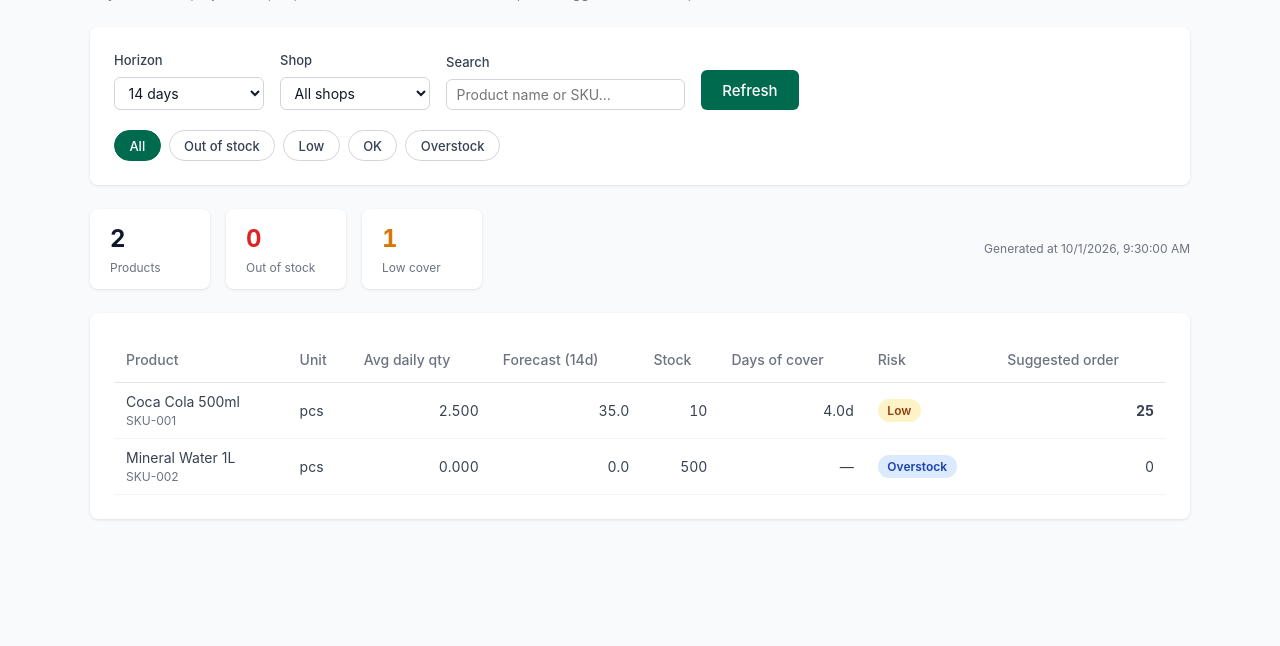
Test: Forecast page › keeps a single row expanded at a time and collapses on a second click
Click the row "Coca Cola 500ml SKU-001 pcs 2.500 35.0 10 4.0d Low 25" at (640,411), box [114,383,1166,439]
(page scrolled)
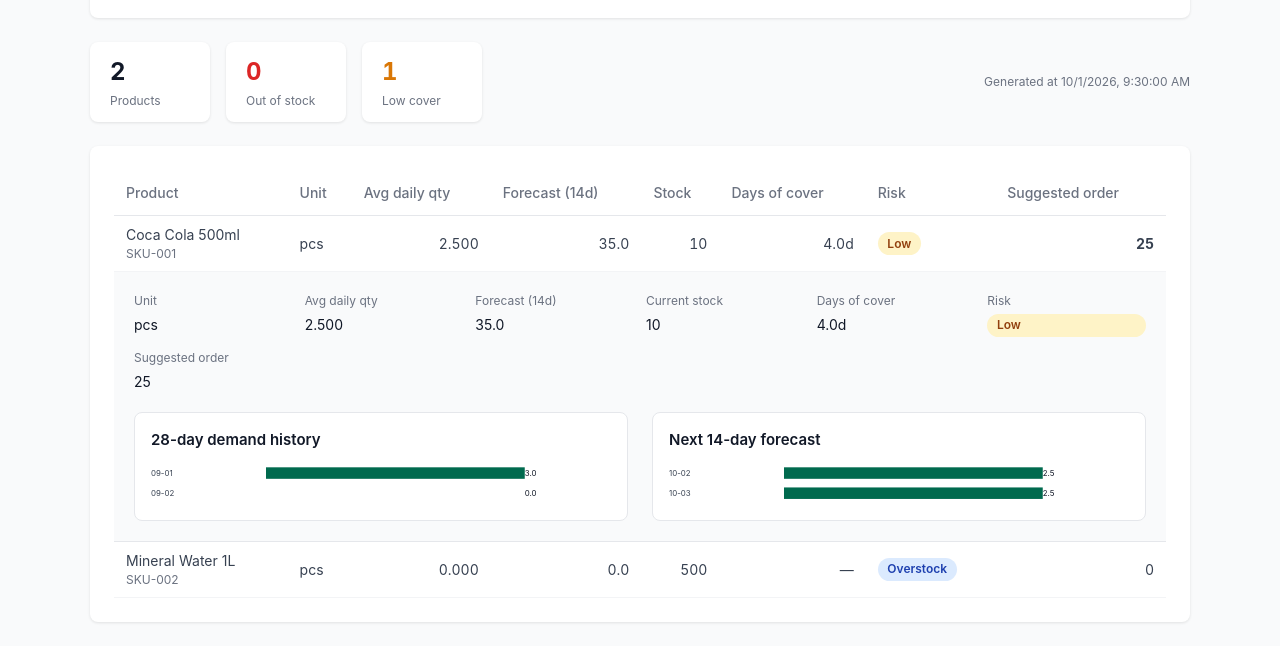
Expected: the heading "28-day demand history" is shown, [151,430,321,449]
Click the row "Mineral Water 1L SKU-002 pcs 0.000 0.0 500 — Overstock 0" at (640,569), box [114,541,1166,597]
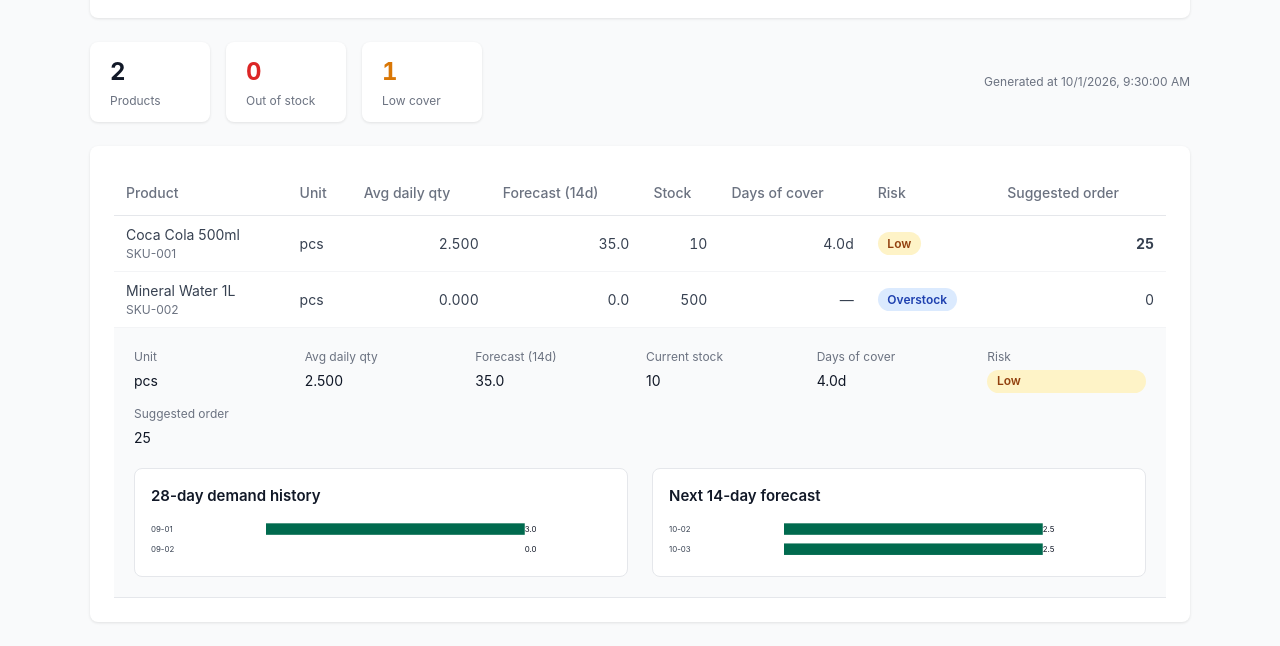
Expected: the text "09-01" is shown, [151,524,173,534]
Expected: the number of headings "28-day demand history" is 1, [151,486,321,505]
Click the row "Mineral Water 1L SKU-002 pcs 0.000 0.0 500 — Overstock 0" at (640,300), box [114,272,1166,328]
(page scrolled)
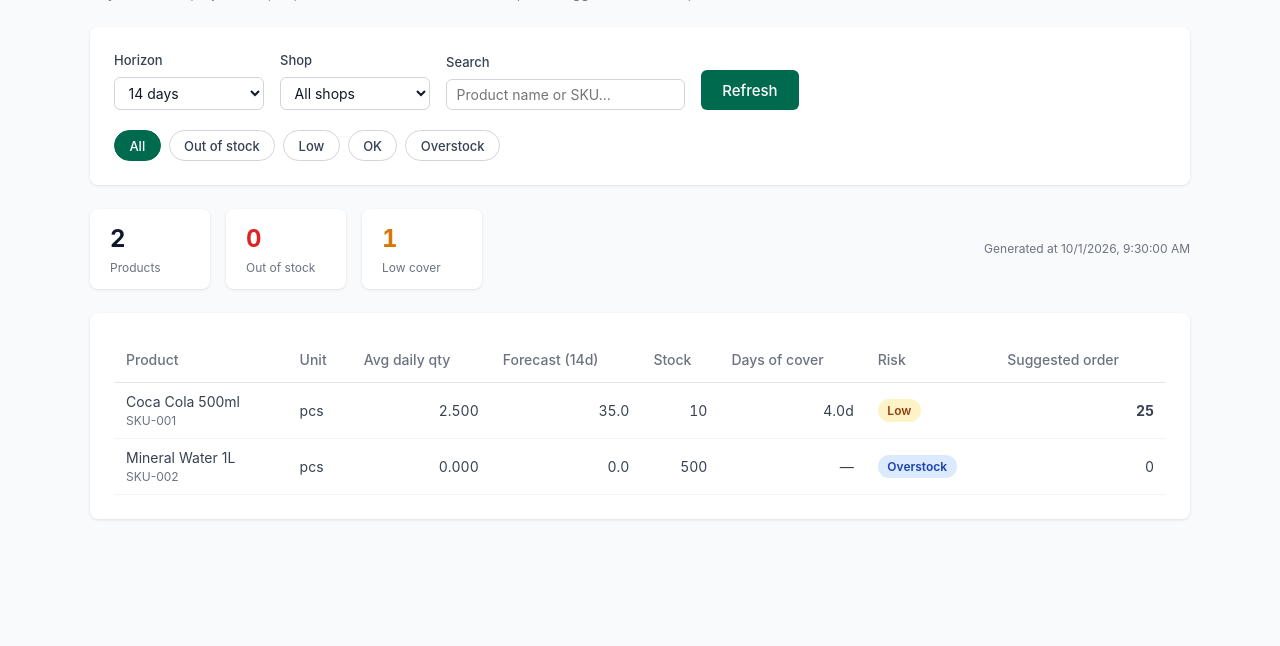
Expected: the heading "28-day demand history" is gone
